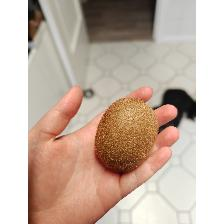Kiwi: (94, 96, 160, 174)
